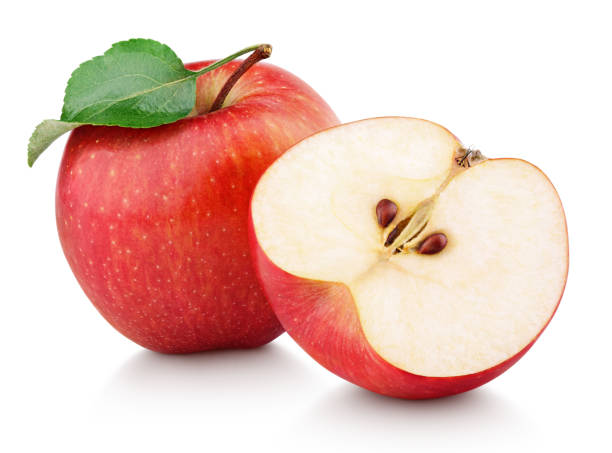apple: (287, 76, 574, 414), (59, 47, 344, 376)
